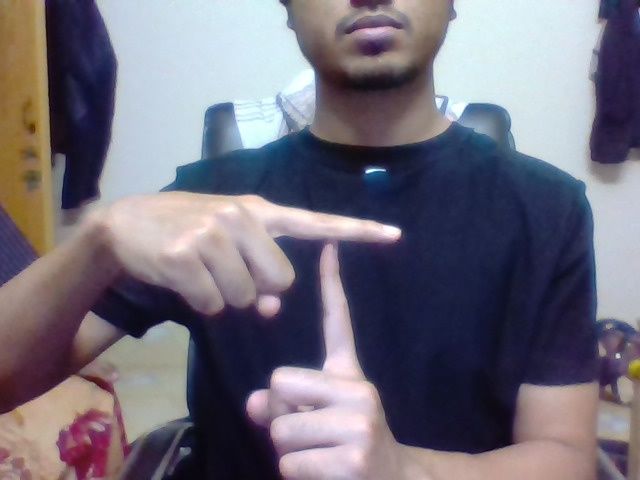T: (300, 194, 417, 360)
